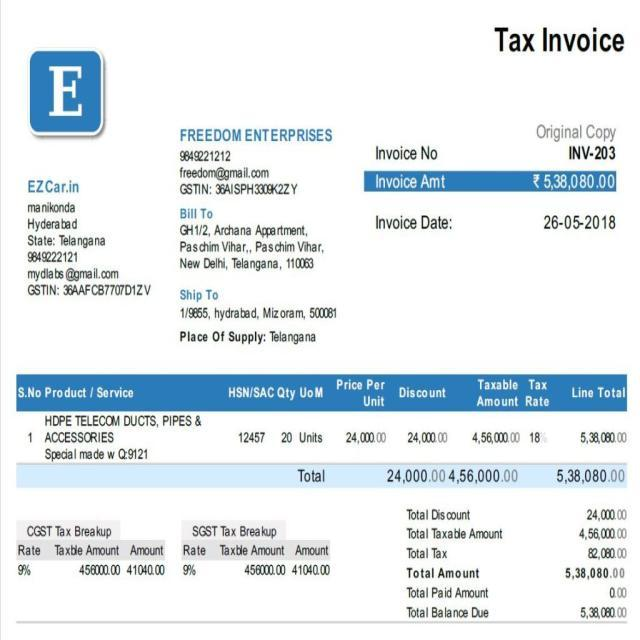ROI: (10, 368, 630, 461), (366, 116, 632, 242), (400, 500, 632, 623), (20, 173, 155, 303), (172, 123, 337, 197), (176, 202, 335, 276), (172, 285, 341, 350), (181, 516, 336, 583), (13, 516, 169, 580), (24, 44, 112, 141), (293, 464, 629, 487), (488, 20, 629, 60)
